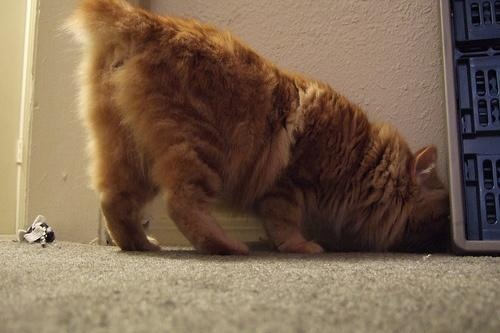cat: (74, 1, 451, 257)
